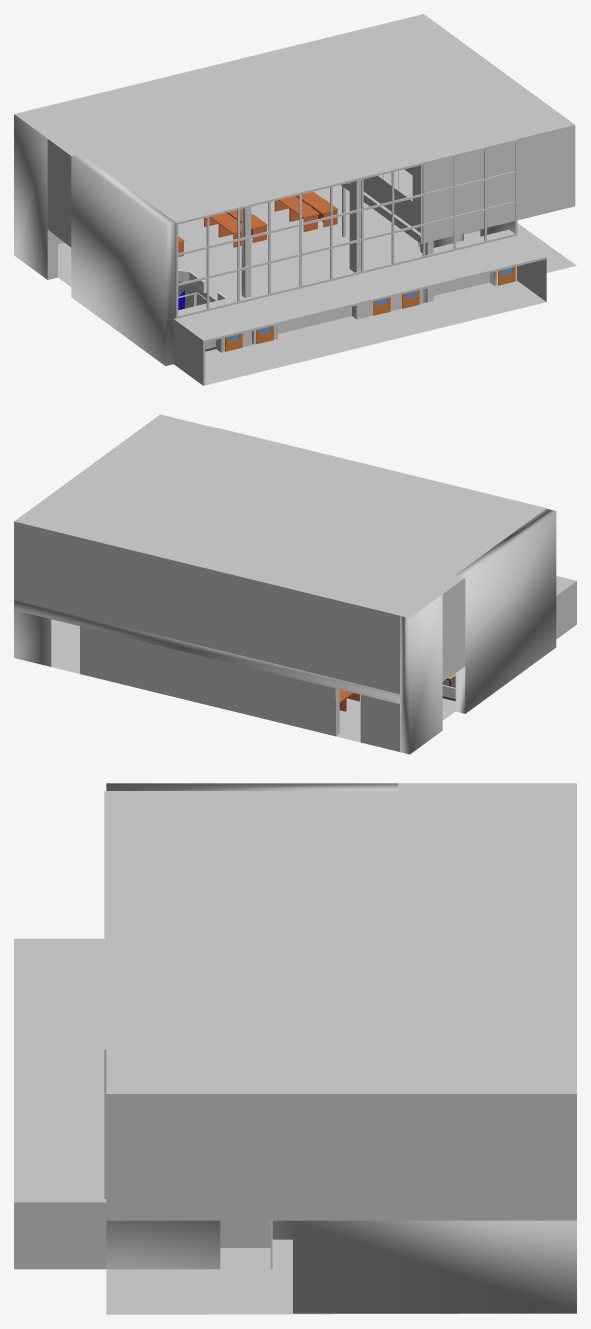
The model's file is wall_laas15.dae.
The picture shows the model from 3 angles, top to bottom: view 1: azimuth 30°, elevation 25°; view 2: azimuth 150°, elevation 25°; view 3: azimuth 270°, elevation 25°; orthographic projection. The views are drawn at different scales.
Visible parts, largest first — view 1: wall_laas12, desktop_v2_009; view 2: wall_laas12; view 3: wall_laas12.
Boxes of the visible parts, bbox=[...] form: wall_laas12: bbox=[14, 14, 576, 385]; desktop_v2_009: bbox=[289, 203, 319, 232]; wall_laas12: bbox=[14, 414, 576, 754]; wall_laas12: bbox=[14, 783, 576, 1314].
Bounding box in the file's own units: 20 × 15.25 × 6.57.
